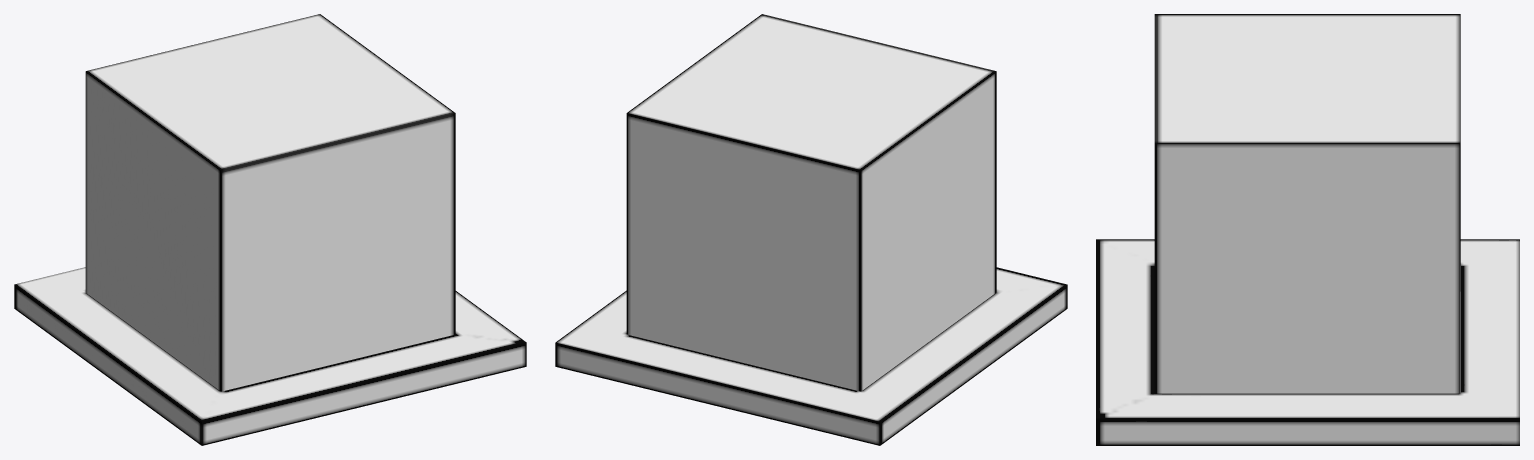
File: tipSquare.obj
3 renders of one model, left to right at view 1: azimuth 30°, elevation 25°; view 2: azimuth 150°, elevation 25°; view 3: azimuth 270°, elevation 25°, orthographic. The views are drawn at different scales.
Parts seen in each view (by area): view 1: Cube; view 2: Cube; view 3: Cube.
Part boxes in pixels (box(x1,y1,x2,y2)): Cube: box(14, 14, 526, 445); Cube: box(555, 14, 1067, 445); Cube: box(1096, 14, 1519, 445).
Size of the model in its own units: 1.92 by 1.39 by 1.92.
